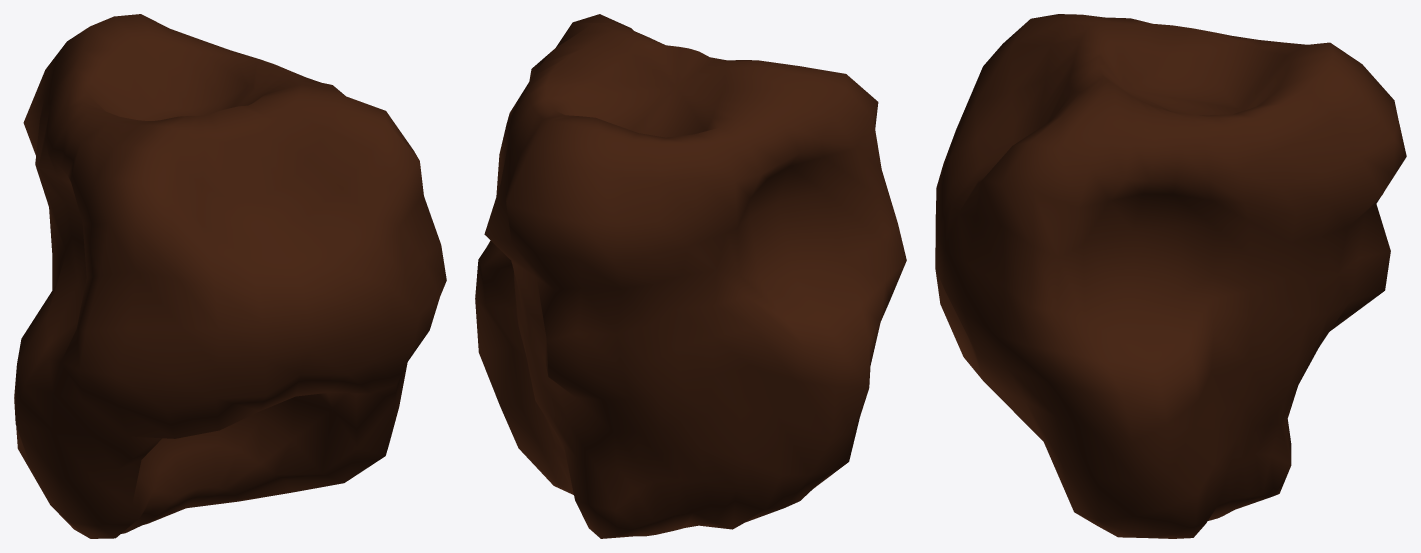
Rendered from Meteroid_01.fbx.
3 views of the same model, side by side, from view 1: azimuth 30°, elevation 25°; view 2: azimuth 150°, elevation 25°; view 3: azimuth 270°, elevation 25° (orthographic).
Visible parts, largest first — view 1: Meteroid_01; view 2: Meteroid_01; view 3: Meteroid_01.
Part boxes in pixels (box(x1,y1,x2,y2)): Meteroid_01: box(14, 14, 446, 538); Meteroid_01: box(475, 14, 906, 538); Meteroid_01: box(935, 14, 1406, 538).
Bounding box in the file's own units: 165 × 179 × 168.
